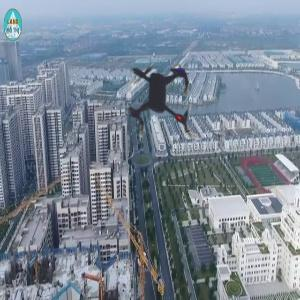drone: (73, 14, 241, 182)
